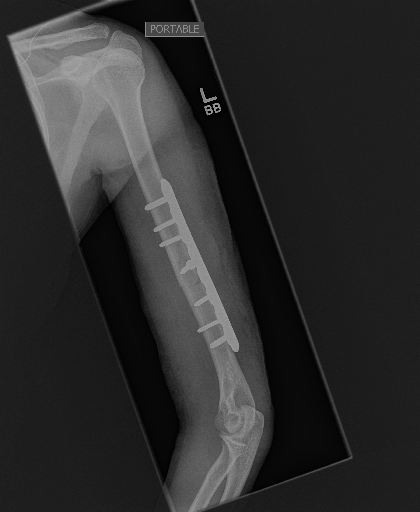implant: (144, 176, 239, 357)
